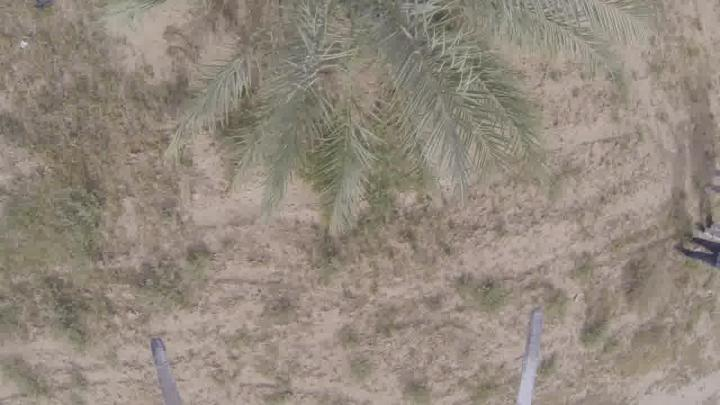Date-Palm-Crown: (252, 1, 534, 116)
